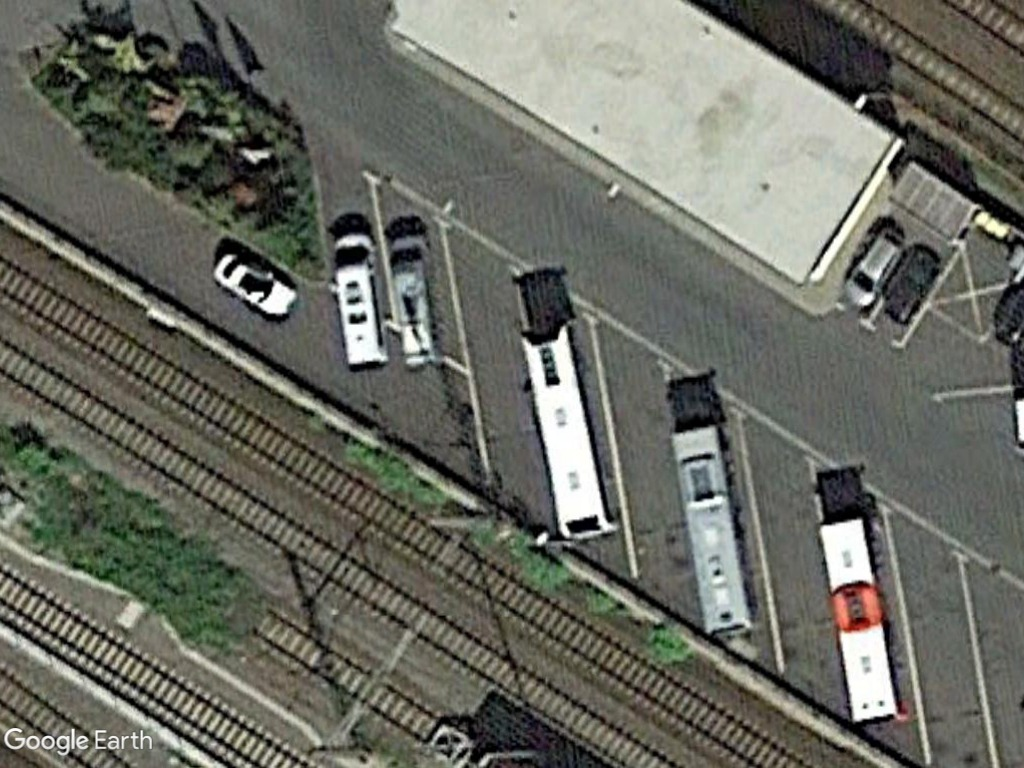bus: (513, 316, 625, 544), (662, 416, 761, 640), (815, 510, 906, 724)
car: (205, 236, 302, 327), (841, 216, 913, 318)
van: (381, 222, 444, 376), (326, 224, 387, 376)
